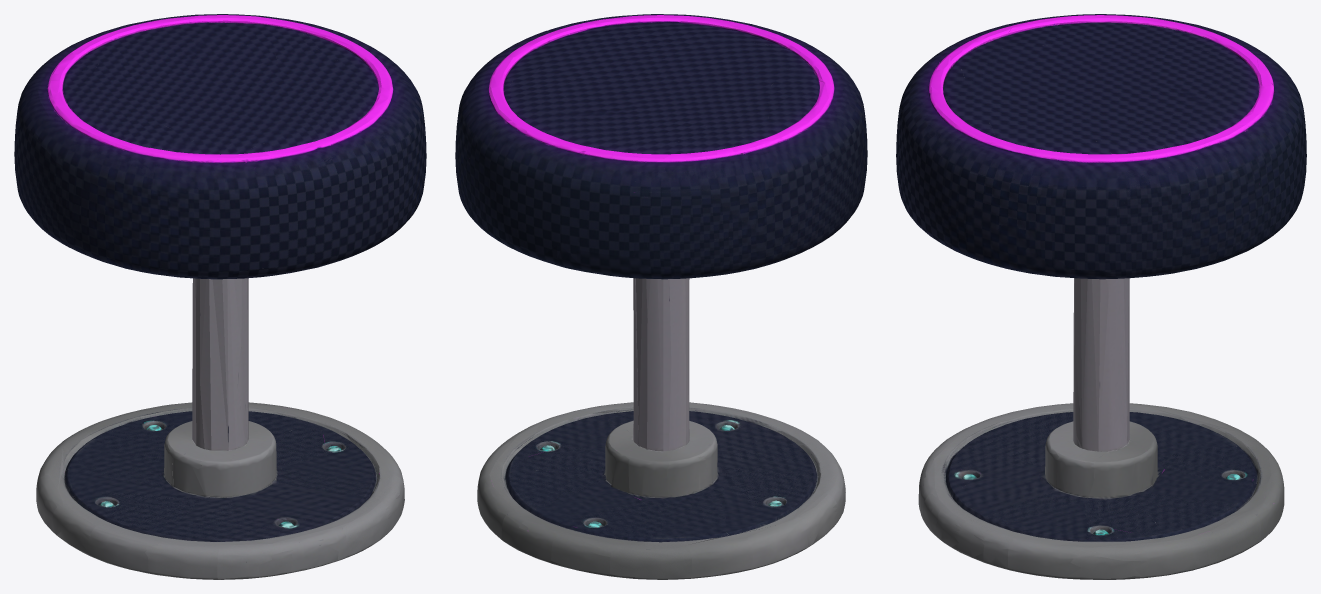
Rendered from banqueta.glb.
The picture shows the model from 3 angles, left to right: view 1: azimuth 30°, elevation 25°; view 2: azimuth 150°, elevation 25°; view 3: azimuth 270°, elevation 25°; orthographic projection.
Parts seen in each view (by area): view 1: Mesh_0; view 2: Mesh_0; view 3: Mesh_0.
Part boxes in pixels (<box>): Mesh_0: <box>14,14,426,579</box>; Mesh_0: <box>455,14,867,579</box>; Mesh_0: <box>896,14,1306,579</box>.
Size of the model in its own units: 1.69 by 1.9 by 1.69.
Materials: 1 (1 with a texture image).
